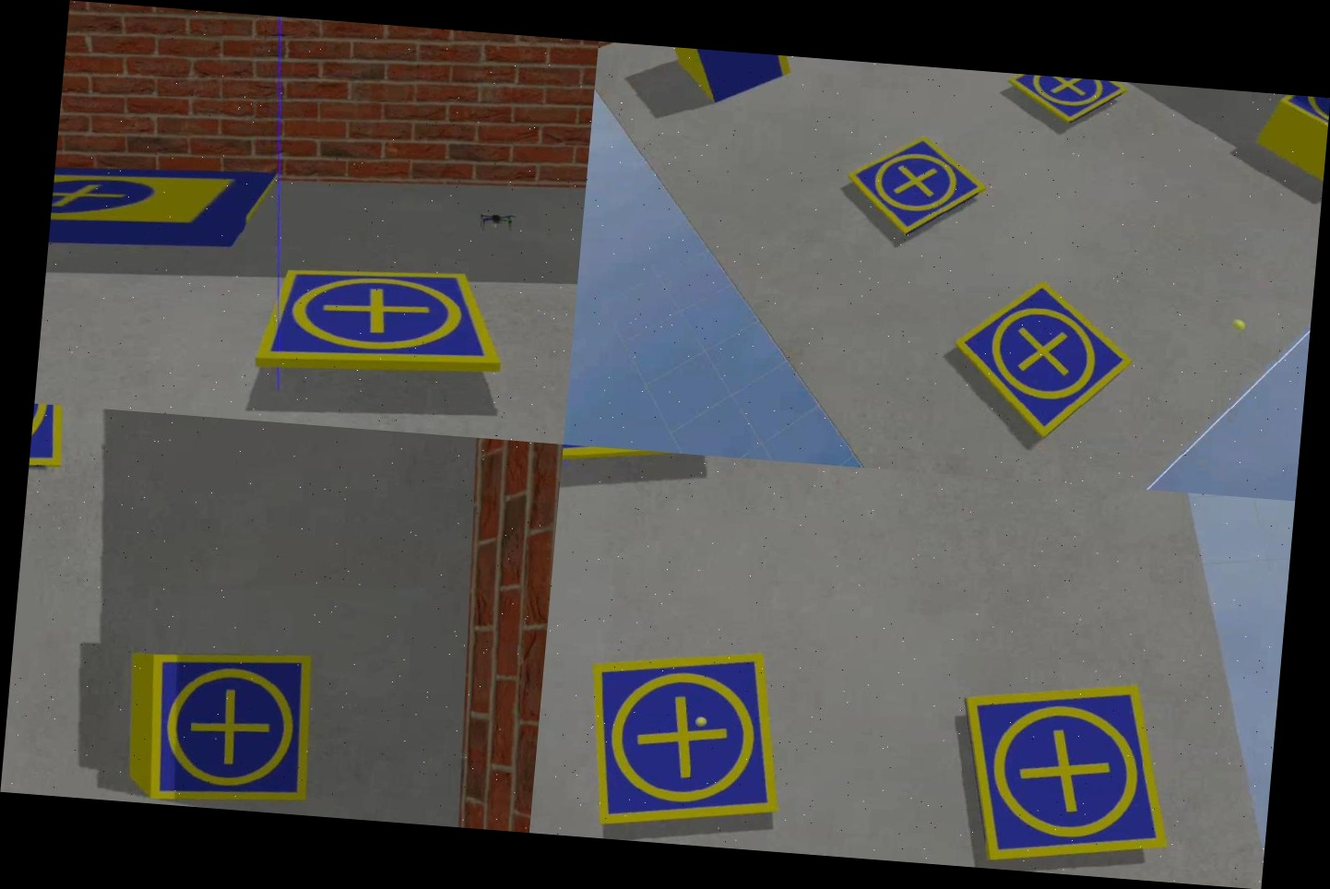large_base: (47, 152, 283, 272)
small_base: (947, 669, 1183, 879), (578, 640, 793, 845), (941, 270, 1146, 453), (252, 255, 512, 386), (136, 642, 323, 815), (842, 127, 996, 245), (1001, 73, 1130, 132), (1272, 94, 1330, 155)
